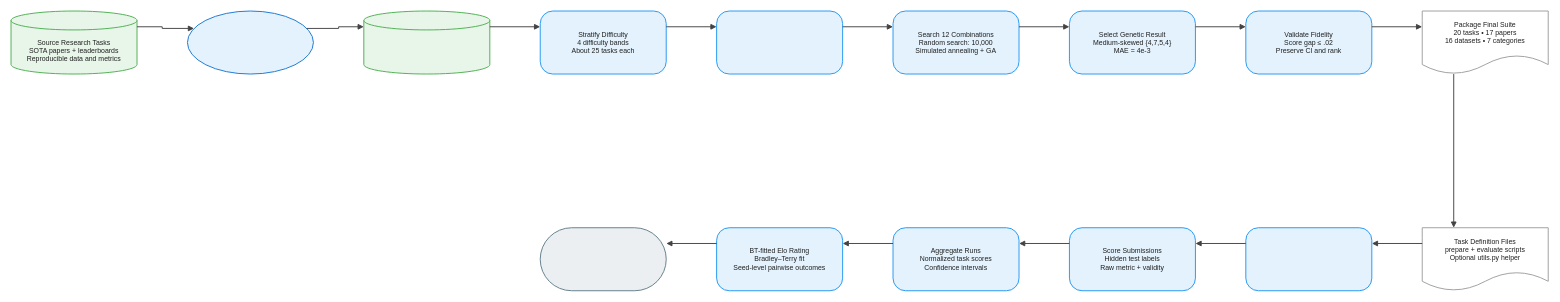
Image size: 1560x302. Some labels were removed from this diagram. The shapes that lost their labels are listed below. From the top down, each one's centre as x and y in pixels, then its label:
At point 250,42: "Verify Eligibility Clear objective and split Reproduce the metric".
At point 426,42: "Candidate Pool About 100 tasks About 85 papers".
At point 779,42: "Define 4 Allocations Difficulty distributions Candidate suite shapes".
At point 602,259: "AIRS-Bench Report Quality + reliability Fitted relative ranking".
At point 1308,259: "Run Research Agents 24 h on one H200 At least 10 seeds".
